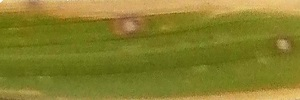RiceBlast: (3, 1, 298, 32), (275, 36, 292, 55)
